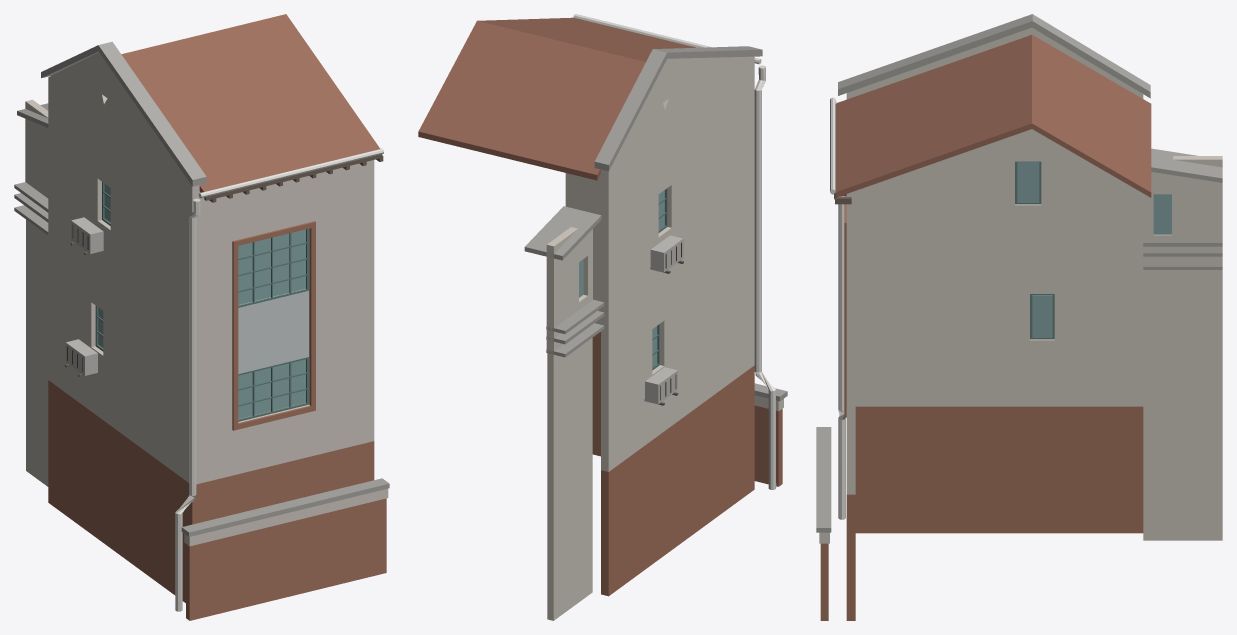
Rendered from lod-source.glb.
The picture shows the model from 3 angles, left to right: view 1: azimuth 30°, elevation 25°; view 2: azimuth 150°, elevation 25°; view 3: azimuth 270°, elevation 25°; orthographic projection. The views are drawn at different scales.
Parts seen in each view (by area): view 1: 沪西别墅东侧临弄山墙与跨层钢窗; view 2: 沪西别墅东侧临弄山墙与跨层钢窗; view 3: 沪西别墅东侧临弄山墙与跨层钢窗.
Part boxes in pixels (left/top/right/bottom): 沪西别墅东侧临弄山墙与跨层钢窗: left=14, top=14, right=389, bottom=620; 沪西别墅东侧临弄山墙与跨层钢窗: left=418, top=14, right=787, bottom=620; 沪西别墅东侧临弄山墙与跨层钢窗: left=816, top=14, right=1222, bottom=620.
Size of the model in its own units: 5.14 by 11.98 by 8.59.
